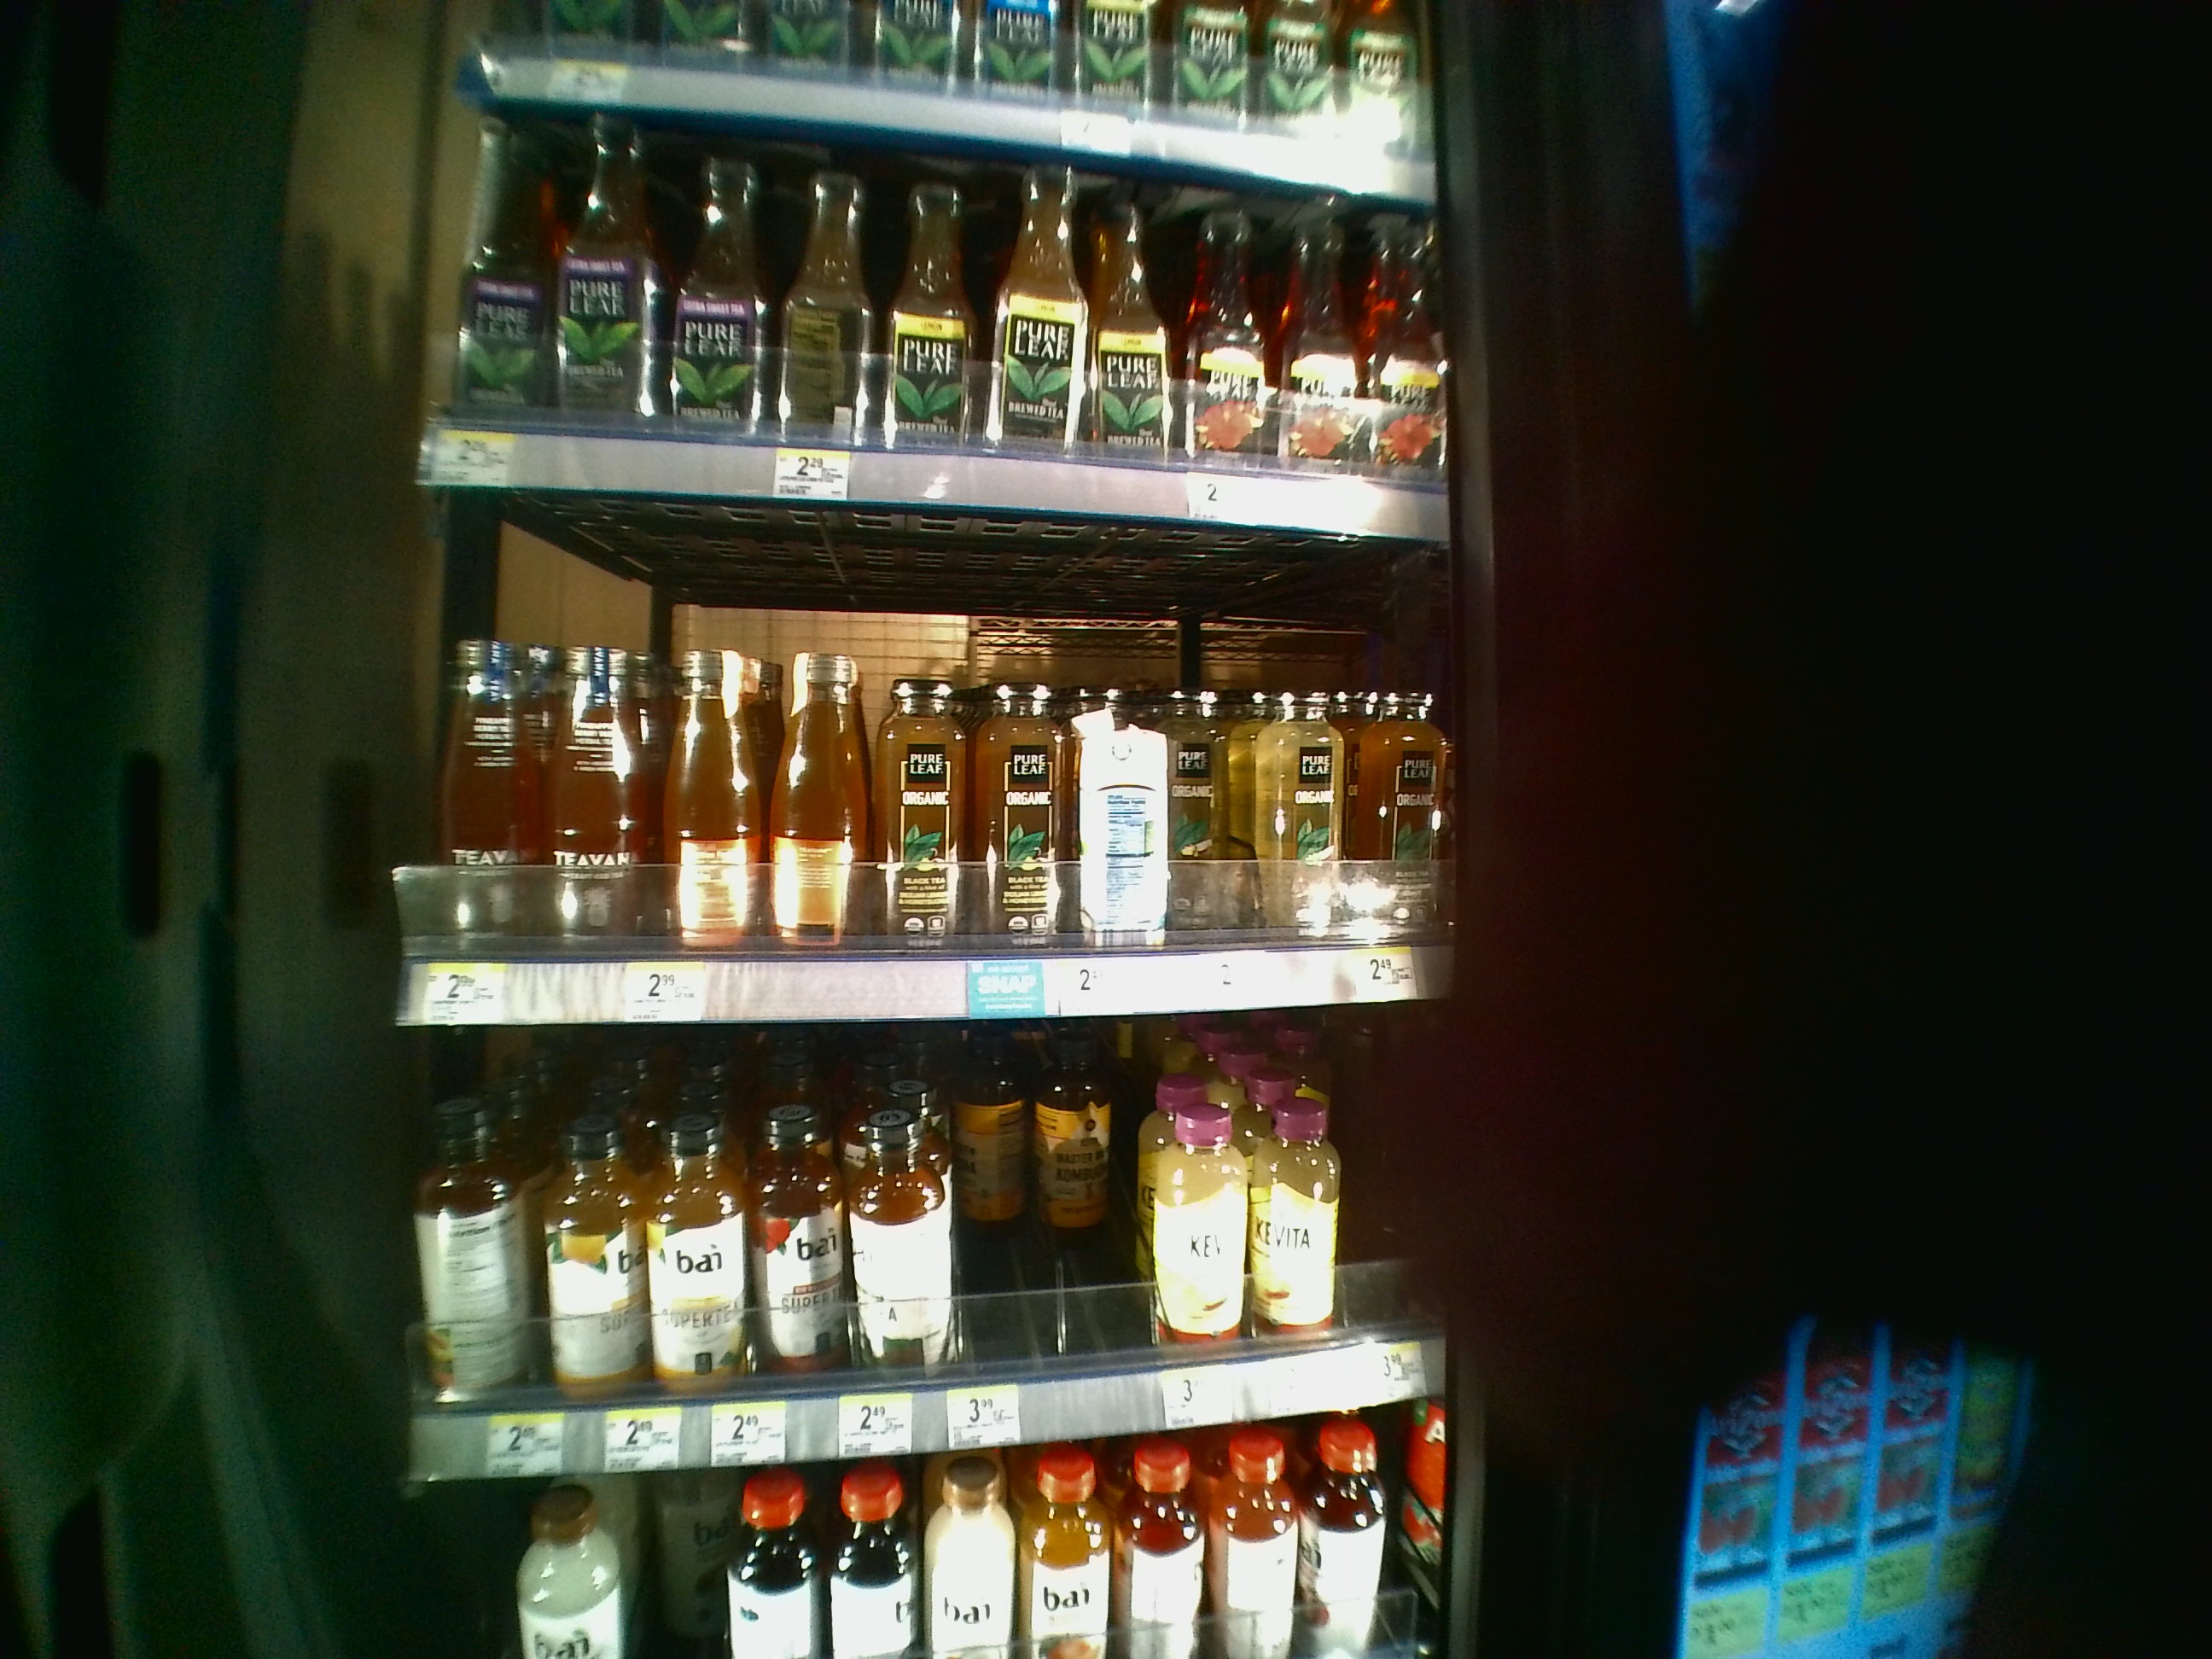shelf: (394, 495, 1470, 1023)
